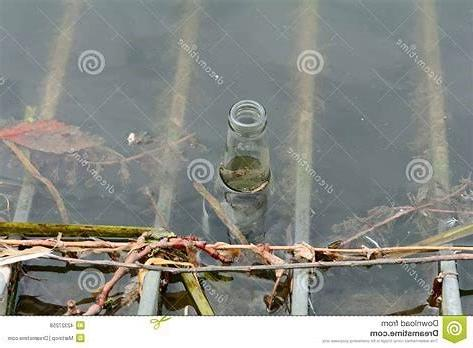Plastic: (220, 99, 272, 195)
